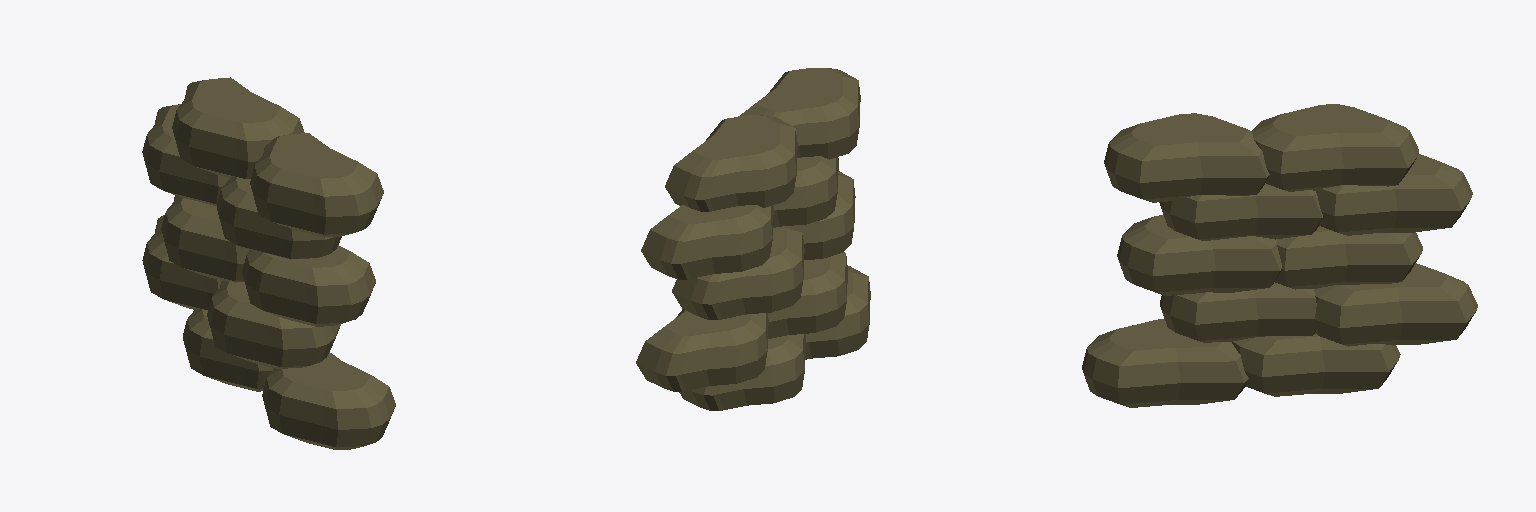
The model's file is smallSandbag.obj.
The picture shows the model from 3 angles: view 1: azimuth 30°, elevation 25°; view 2: azimuth 150°, elevation 25°; view 3: azimuth 270°, elevation 25°; orthographic projection.
Parts seen in each view (by area): view 1: Mesh9 Group10 Group1 Model, Mesh6 Group7 Group1 Model, Mesh4 Group5 Group1 Model, Mesh1 Group2 Group1 Model, Mesh10 Group11 Group1 Model, Mesh2 Group3 Group1 Model, Mesh5 Group6 Group1 Model, Mesh8 Group9 Group1 Model, Mesh7 Group8 Group1 Model, Mesh3 Group4 Group1 Model; view 2: Mesh4 Group5 Group1 Model, Mesh3 Group4 Group1 Model, Mesh8 Group9 Group1 Model, Mesh9 Group10 Group1 Model, Mesh2 Group3 Group1 Model, Mesh7 Group8 Group1 Model, Mesh10 Group11 Group1 Model, Mesh5 Group6 Group1 Model, Mesh6 Group7 Group1 Model, Mesh1 Group2 Group1 Model; view 3: Mesh9 Group10 Group1 Model, Mesh4 Group5 Group1 Model, Mesh6 Group7 Group1 Model, Mesh3 Group4 Group1 Model, Mesh1 Group2 Group1 Model, Mesh8 Group9 Group1 Model, Mesh7 Group8 Group1 Model, Mesh10 Group11 Group1 Model, Mesh2 Group3 Group1 Model, Mesh5 Group6 Group1 Model.
Boxes of the visible parts, x1,y1,x2,y2 form: Mesh9 Group10 Group1 Model: [250, 133, 383, 237]; Mesh6 Group7 Group1 Model: [262, 352, 395, 449]; Mesh4 Group5 Group1 Model: [172, 77, 304, 178]; Mesh1 Group2 Group1 Model: [242, 245, 375, 326]; Mesh10 Group11 Group1 Model: [207, 281, 340, 368]; Mesh2 Group3 Group1 Model: [161, 195, 249, 282]; Mesh5 Group6 Group1 Model: [217, 177, 341, 259]; Mesh8 Group9 Group1 Model: [142, 104, 229, 205]; Mesh7 Group8 Group1 Model: [183, 309, 273, 391]; Mesh3 Group4 Group1 Model: [142, 215, 220, 309]; Mesh4 Group5 Group1 Model: [665, 115, 797, 211]; Mesh3 Group4 Group1 Model: [636, 309, 768, 391]; Mesh8 Group9 Group1 Model: [641, 205, 773, 279]; Mesh9 Group10 Group1 Model: [738, 68, 860, 159]; Mesh2 Group3 Group1 Model: [672, 226, 804, 319]; Mesh7 Group8 Group1 Model: [679, 334, 805, 410]; Mesh10 Group11 Group1 Model: [768, 252, 847, 338]; Mesh5 Group6 Group1 Model: [773, 156, 838, 227]; Mesh6 Group7 Group1 Model: [805, 266, 870, 359]; Mesh1 Group2 Group1 Model: [791, 171, 855, 259]; Mesh9 Group10 Group1 Model: [1104, 113, 1269, 202]; Mesh4 Group5 Group1 Model: [1252, 104, 1418, 191]; Mesh6 Group7 Group1 Model: [1082, 319, 1248, 407]; Mesh3 Group4 Group1 Model: [1314, 263, 1477, 346]; Mesh1 Group2 Group1 Model: [1117, 215, 1281, 295]; Mesh8 Group9 Group1 Model: [1315, 154, 1472, 235]; Mesh7 Group8 Group1 Model: [1232, 334, 1400, 396]; Mesh10 Group11 Group1 Model: [1160, 282, 1316, 342]; Mesh2 Group3 Group1 Model: [1275, 226, 1422, 289]; Mesh5 Group6 Group1 Model: [1159, 183, 1323, 240].
Size of the model in its own units: 43.47 by 95.34 by 126.